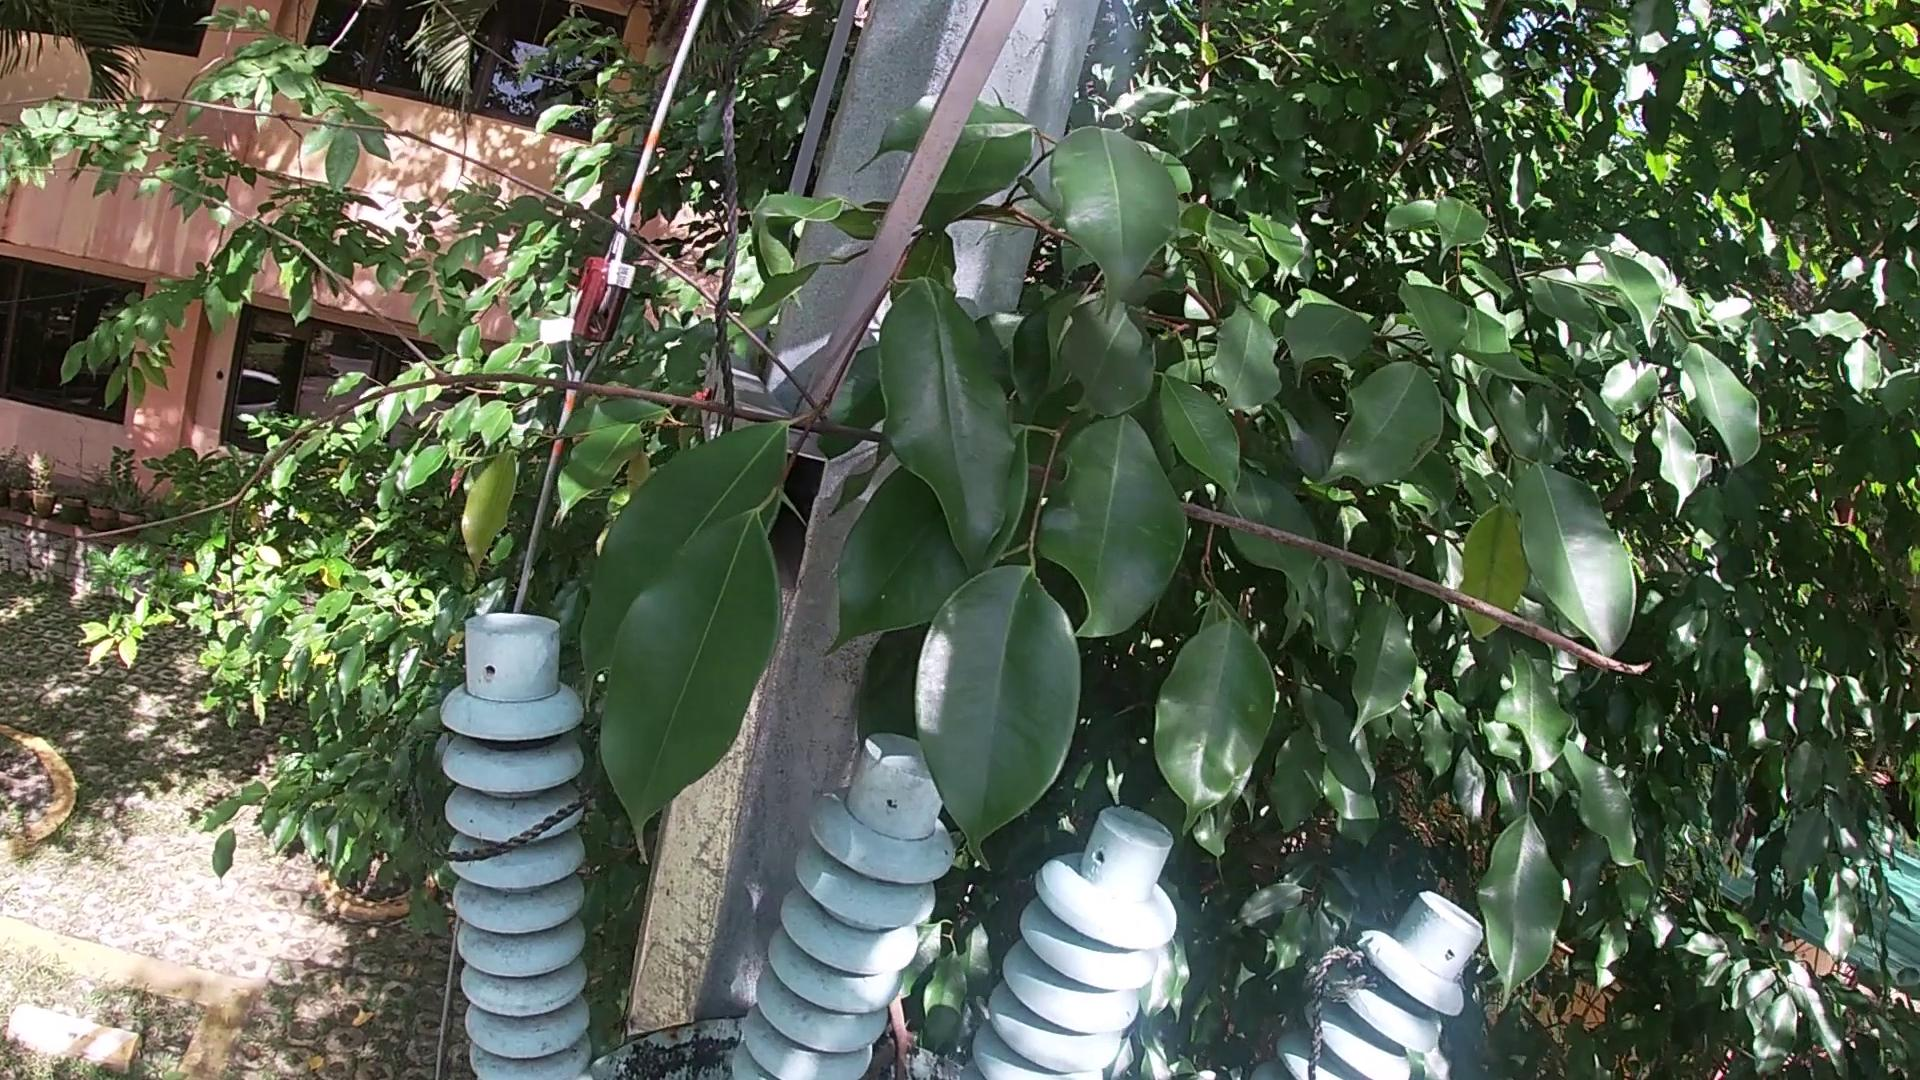tree branch: (1, 63, 1726, 705), (887, 981, 913, 1080), (869, 1027, 923, 1072)
